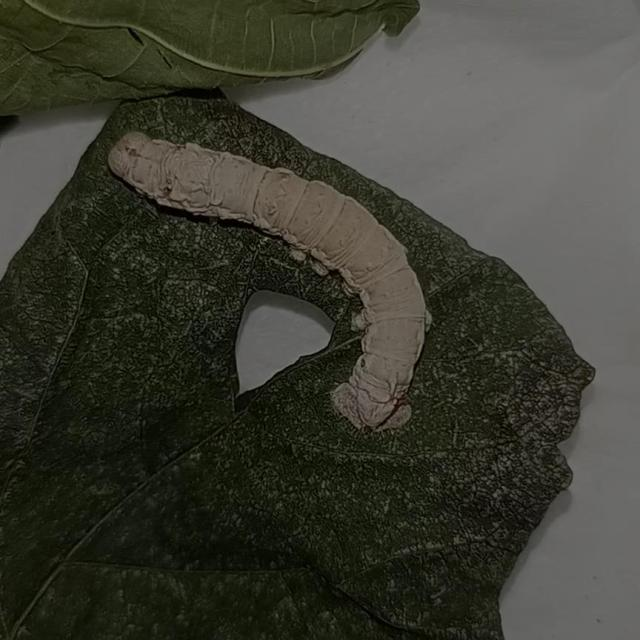Healthy: (100, 106, 448, 451)
